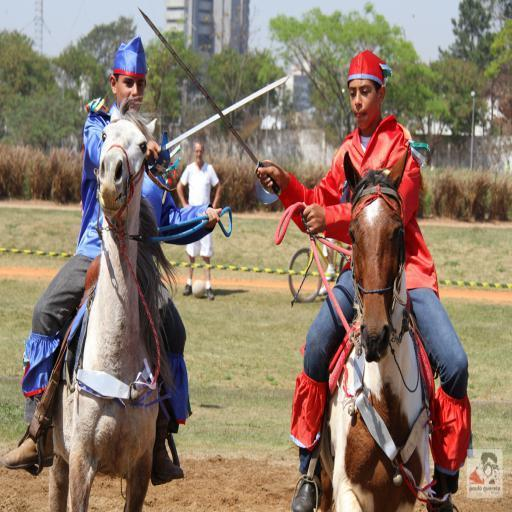horse: (48, 96, 158, 511), (314, 142, 432, 512)
